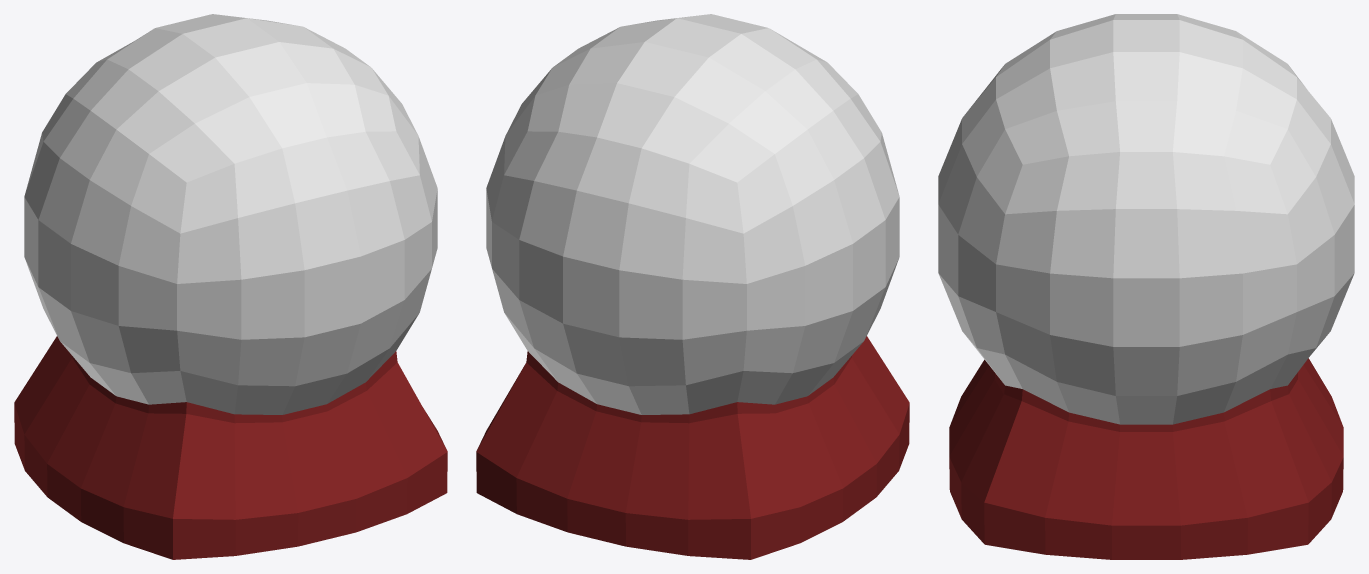
Rendered from globo.fbx.
3 views of the same model, side by side, from view 1: azimuth 30°, elevation 25°; view 2: azimuth 150°, elevation 25°; view 3: azimuth 270°, elevation 25° (orthographic). The views are drawn at different scales.
Visible parts, largest first — view 1: CASA; view 2: CASA; view 3: CASA.
Part boxes in pixels (<box>): CASA: <box>14,14,447,559</box>; CASA: <box>476,14,909,559</box>; CASA: <box>938,14,1354,559</box>.
Size of the model in its own units: 352 by 412 by 352.
